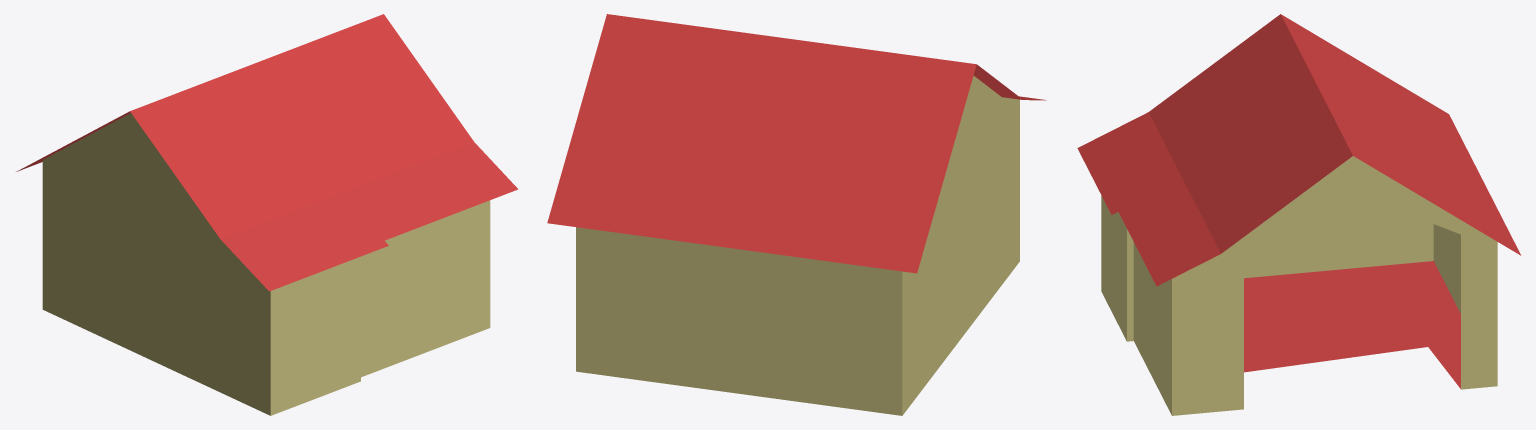
3 renders of one model, left to right at view 1: azimuth 30°, elevation 25°; view 2: azimuth 150°, elevation 25°; view 3: azimuth 270°, elevation 25°, orthographic. The views are drawn at different scales.
Bounding box in the file's own units: 15.45 × 16.56 × 10.38.
